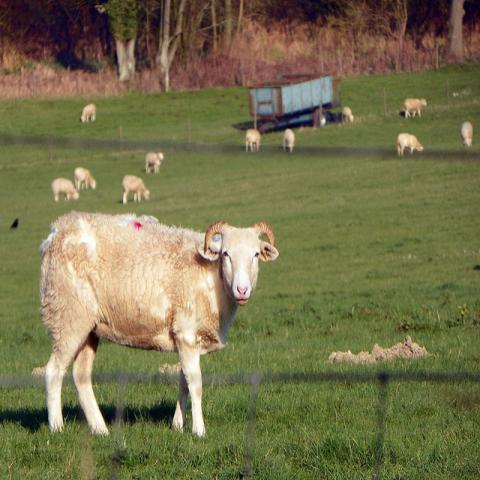truck: (245, 70, 343, 130)
